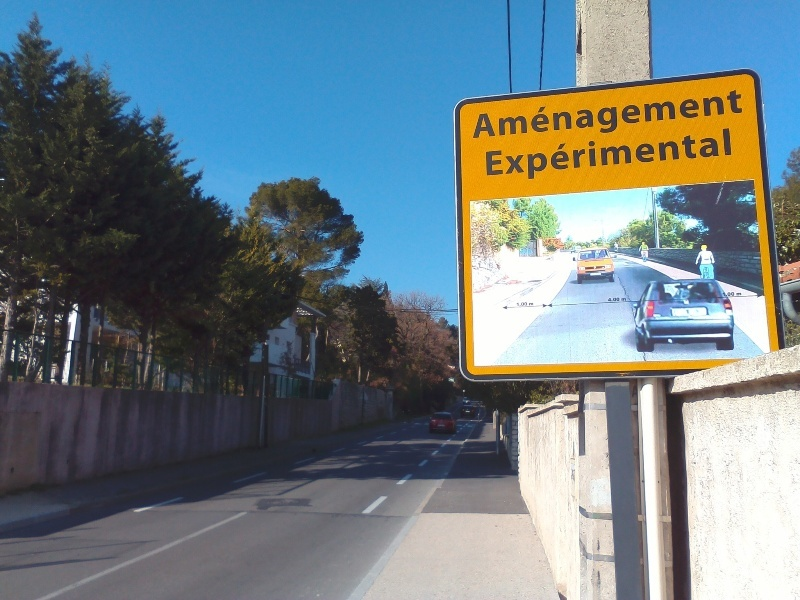text: (481, 86, 496, 145), (497, 86, 512, 145), (513, 86, 528, 145), (529, 86, 544, 145), (545, 86, 560, 145), (561, 86, 576, 145), (577, 86, 592, 145), (593, 86, 608, 145), (609, 86, 624, 145), (625, 86, 640, 145), (641, 86, 656, 145), (657, 86, 672, 145), (673, 86, 688, 145), (689, 86, 704, 145), (705, 86, 720, 145), (721, 86, 736, 145), (497, 127, 512, 184), (513, 127, 528, 184), (529, 127, 544, 184), (545, 127, 560, 184), (561, 127, 576, 184), (577, 127, 592, 184), (593, 127, 608, 184), (609, 127, 624, 184), (625, 127, 640, 184), (641, 127, 656, 184), (657, 127, 672, 184), (673, 127, 688, 184), (689, 127, 704, 184), (705, 127, 720, 184), (721, 127, 734, 184), (485, 127, 496, 184), (737, 86, 745, 145), (721, 292, 736, 298), (529, 302, 544, 307), (479, 86, 480, 145), (517, 302, 528, 307), (609, 298, 620, 303), (737, 293, 742, 297), (622, 298, 624, 302), (625, 298, 627, 302)
